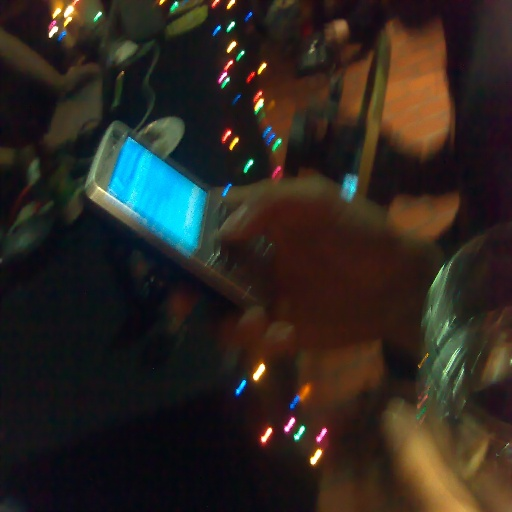hand: (207, 172, 396, 358), (61, 53, 101, 97)
